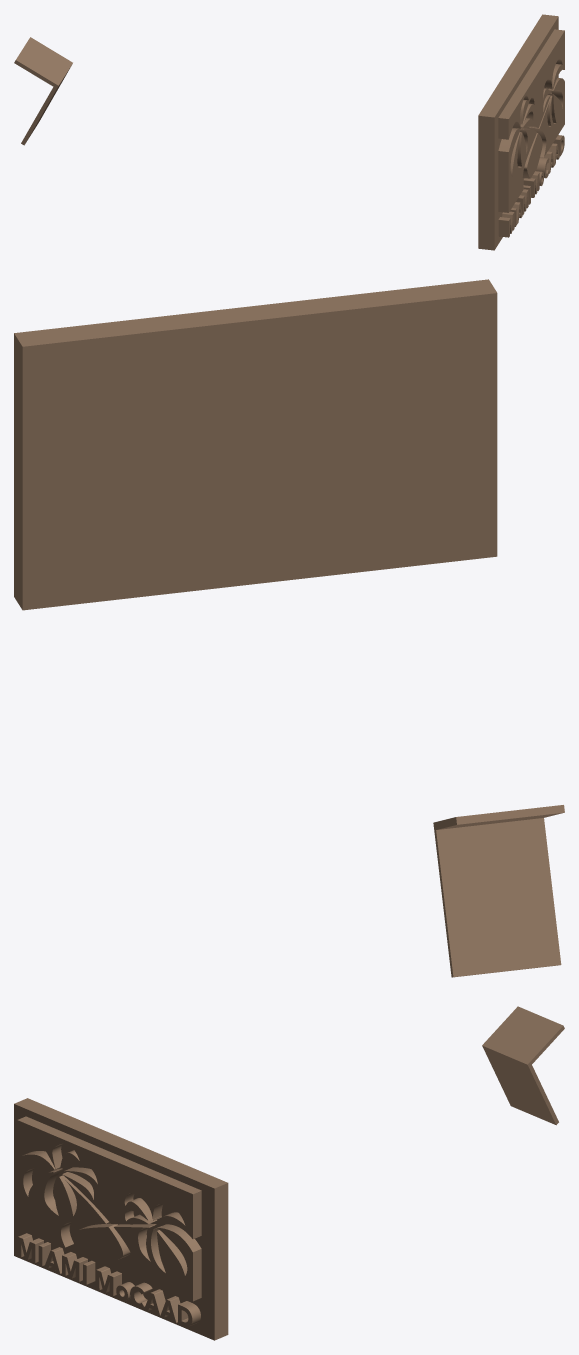
File: Totems.fbx
The picture shows the model from 3 angles, top to bottom: view 1: azimuth 30°, elevation 25°; view 2: azimuth 150°, elevation 25°; view 3: azimuth 270°, elevation 25°; orthographic projection. The views are drawn at different scales.
Visible parts, largest first — view 1: TotemCaad, Totems1, Totems2; view 2: Totems1, Totems2; view 3: TotemCaad, Totems1, Totems2.
Boxes of the visible parts, <box> form: TotemCaad: <box>498,29,564,237</box>; Totems1: <box>478,14,558,250</box>; Totems2: <box>14,37,72,145</box>; Totems1: <box>14,279,497,610</box>; Totems2: <box>433,805,564,977</box>; TotemCaad: <box>17,1116,201,1326</box>; Totems1: <box>14,1098,228,1340</box>; Totems2: <box>482,1006,564,1125</box>.
Size of the model in its own units: 842 by 260 by 855.
